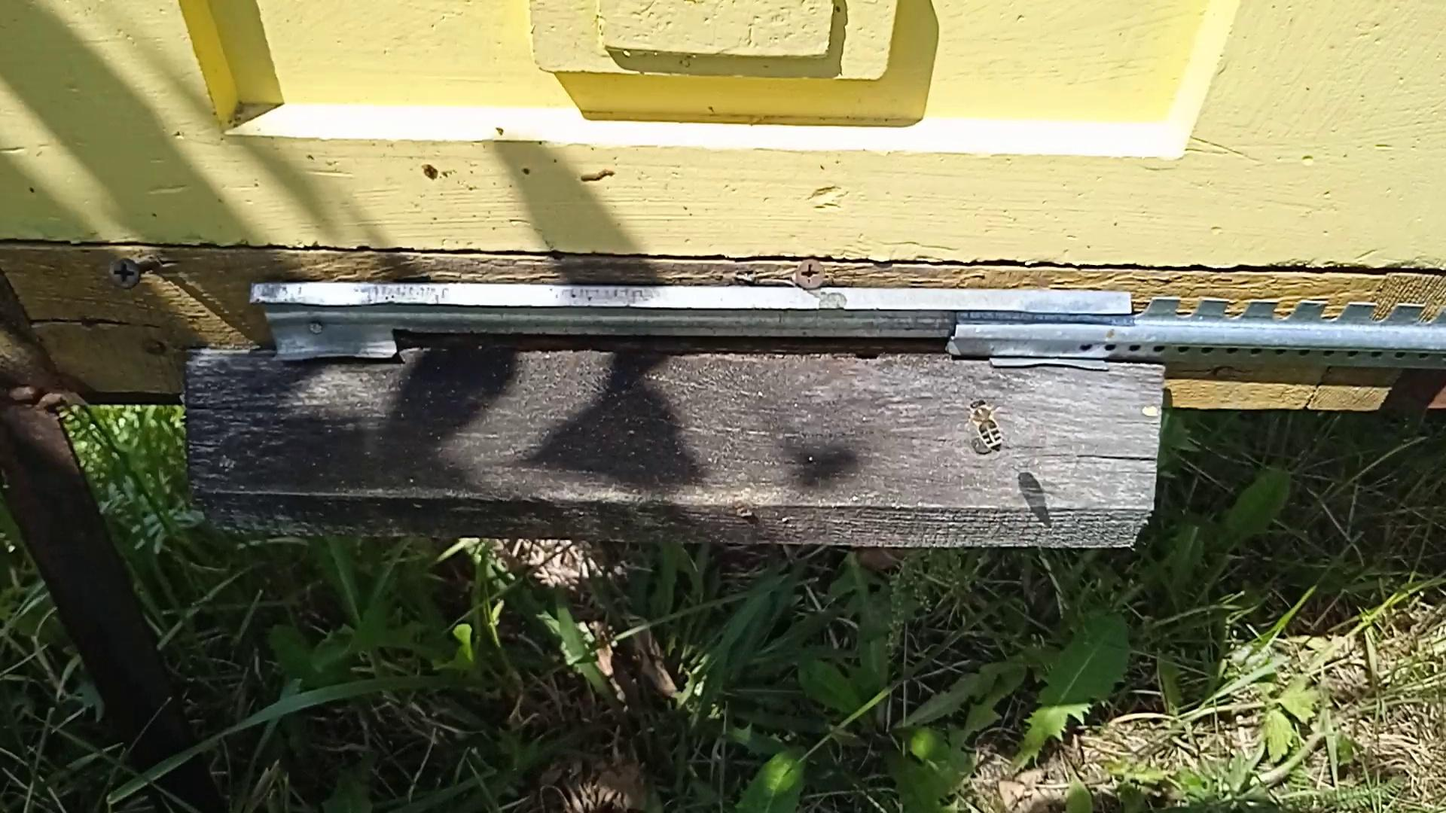worker-bee: (967, 397, 1004, 452)
